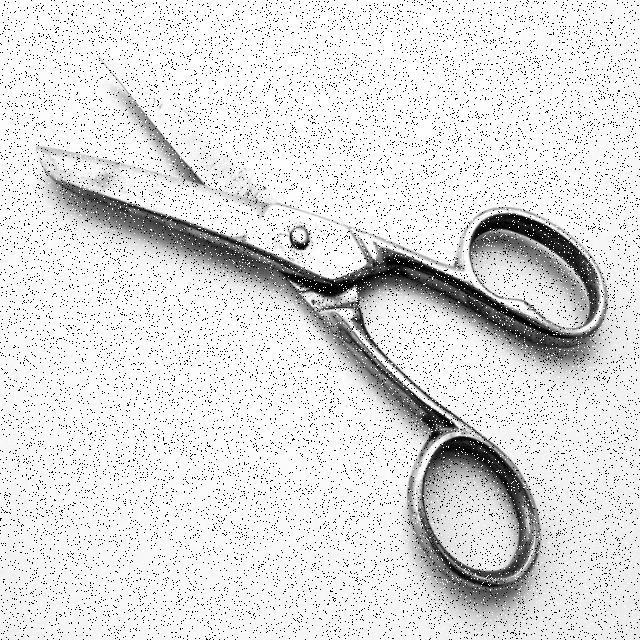scissors: (31, 46, 611, 600)
